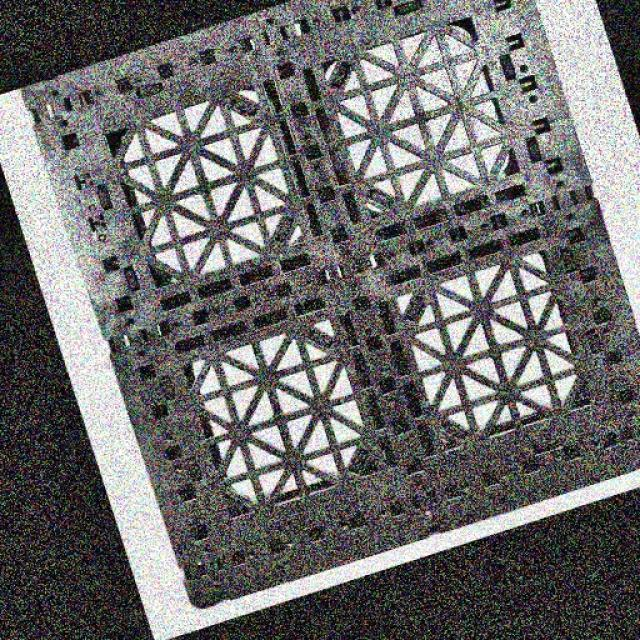non-igps: (15, 0, 640, 614)
